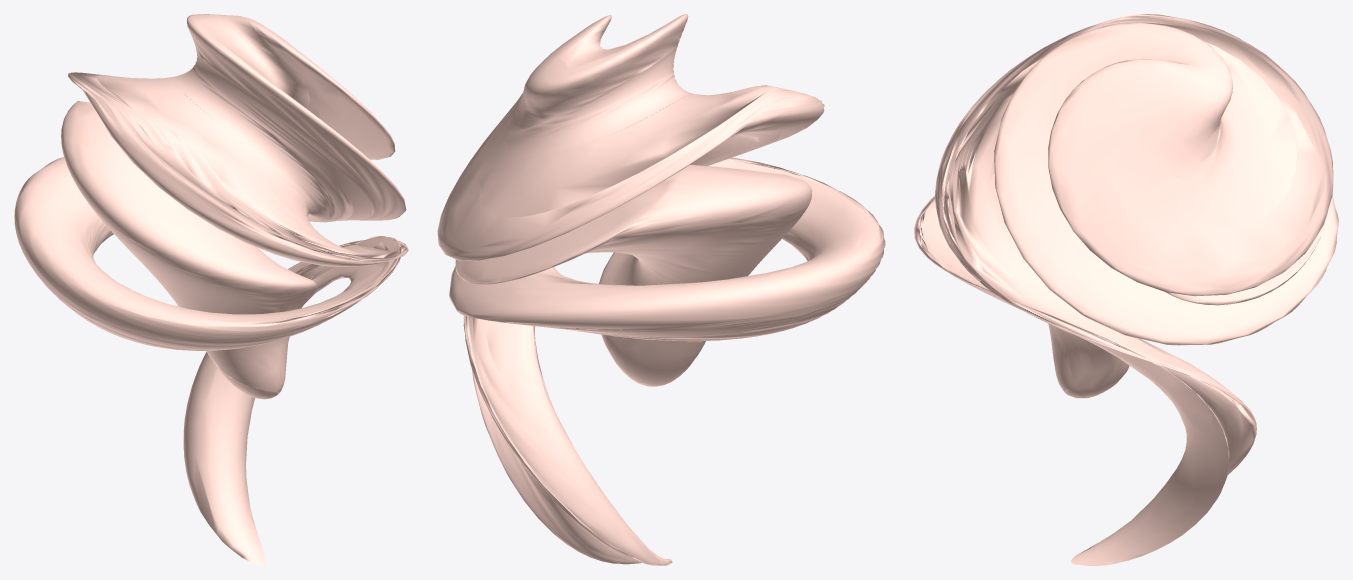
File: Organic4.glb
3 renders of one model, left to right at view 1: azimuth 30°, elevation 25°; view 2: azimuth 150°, elevation 25°; view 3: azimuth 270°, elevation 25°, orthographic. The views are drawn at different scales.
Parts seen in each view (by area): view 1: Object_3; view 2: Object_3; view 3: Object_3.
Part boxes in pixels (bbox=[...]): Object_3: bbox=[14, 14, 408, 565]; Object_3: bbox=[437, 14, 885, 565]; Object_3: bbox=[914, 14, 1338, 565].
Size of the model in its own units: 3.77 by 5.33 by 3.9.
